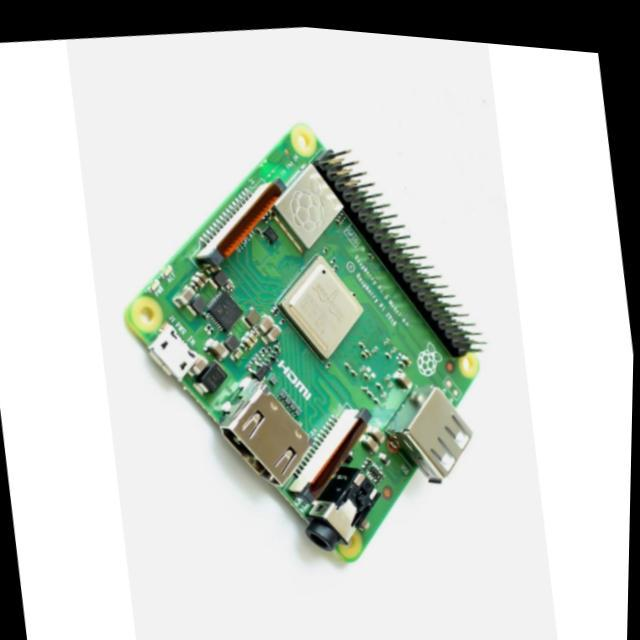Raspberry-Pi-3-A-: (125, 126, 484, 563)
